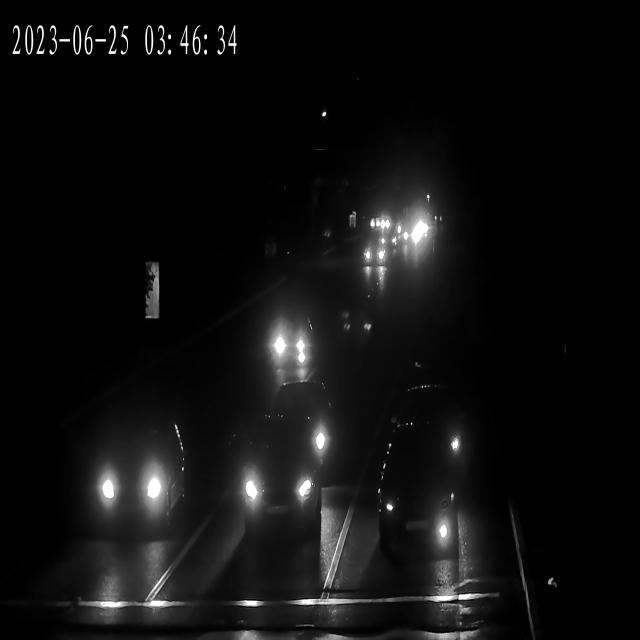Car: (67, 414, 185, 542), (219, 435, 324, 540), (362, 450, 460, 560), (383, 384, 467, 479), (262, 313, 317, 371), (362, 241, 391, 269), (394, 224, 428, 247), (372, 212, 390, 230)
